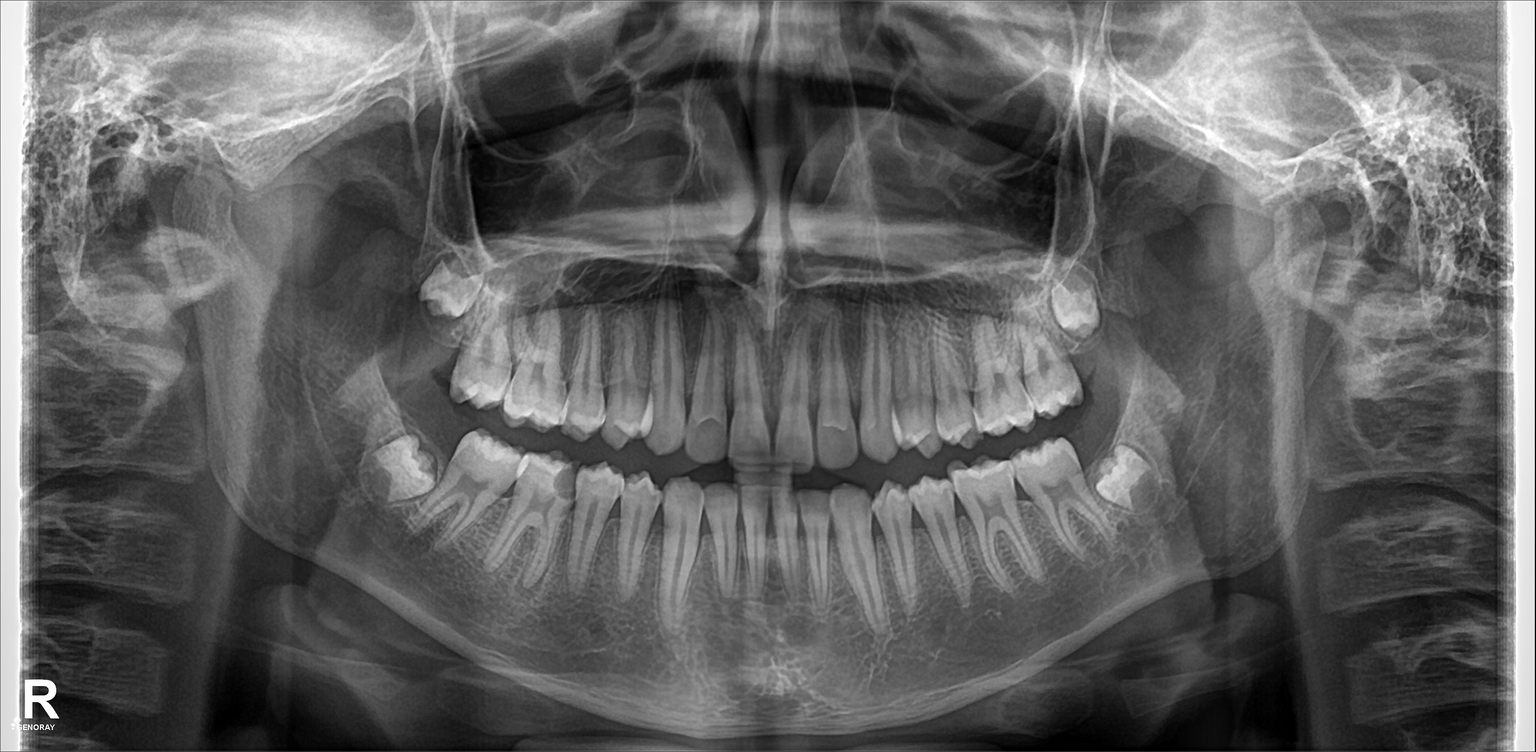Dental Caries: (553, 458, 578, 500)
Impacted Third Molar: (350, 437, 435, 514), (1087, 450, 1167, 506), (421, 253, 481, 313), (1052, 274, 1097, 334)
